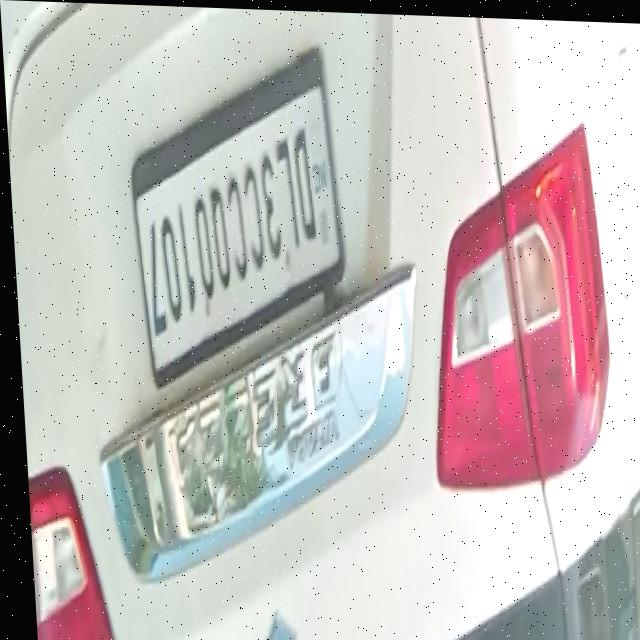plate: (123, 42, 349, 394)
